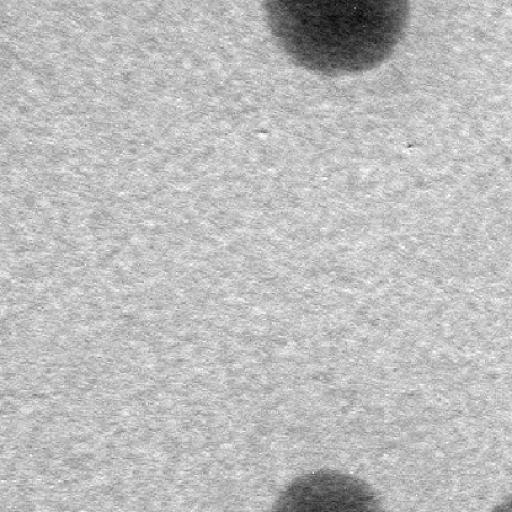Nanoparticles: (263, 0, 409, 77), (272, 468, 378, 511)
